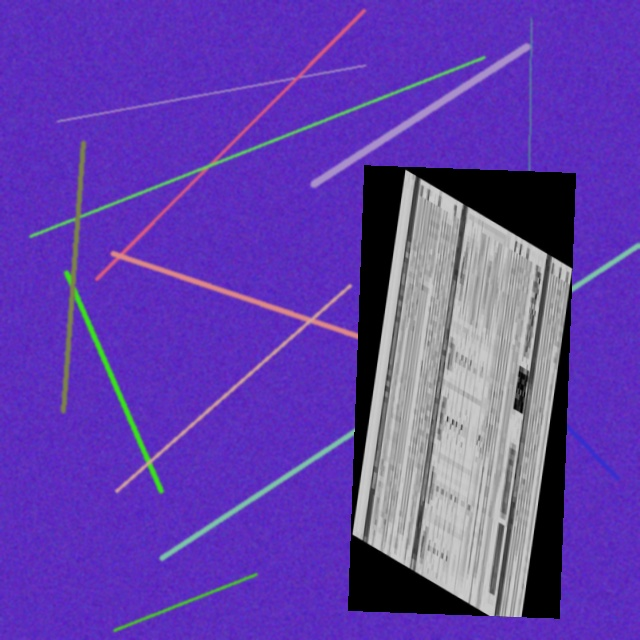electricity-bill: (348, 165, 576, 619)
